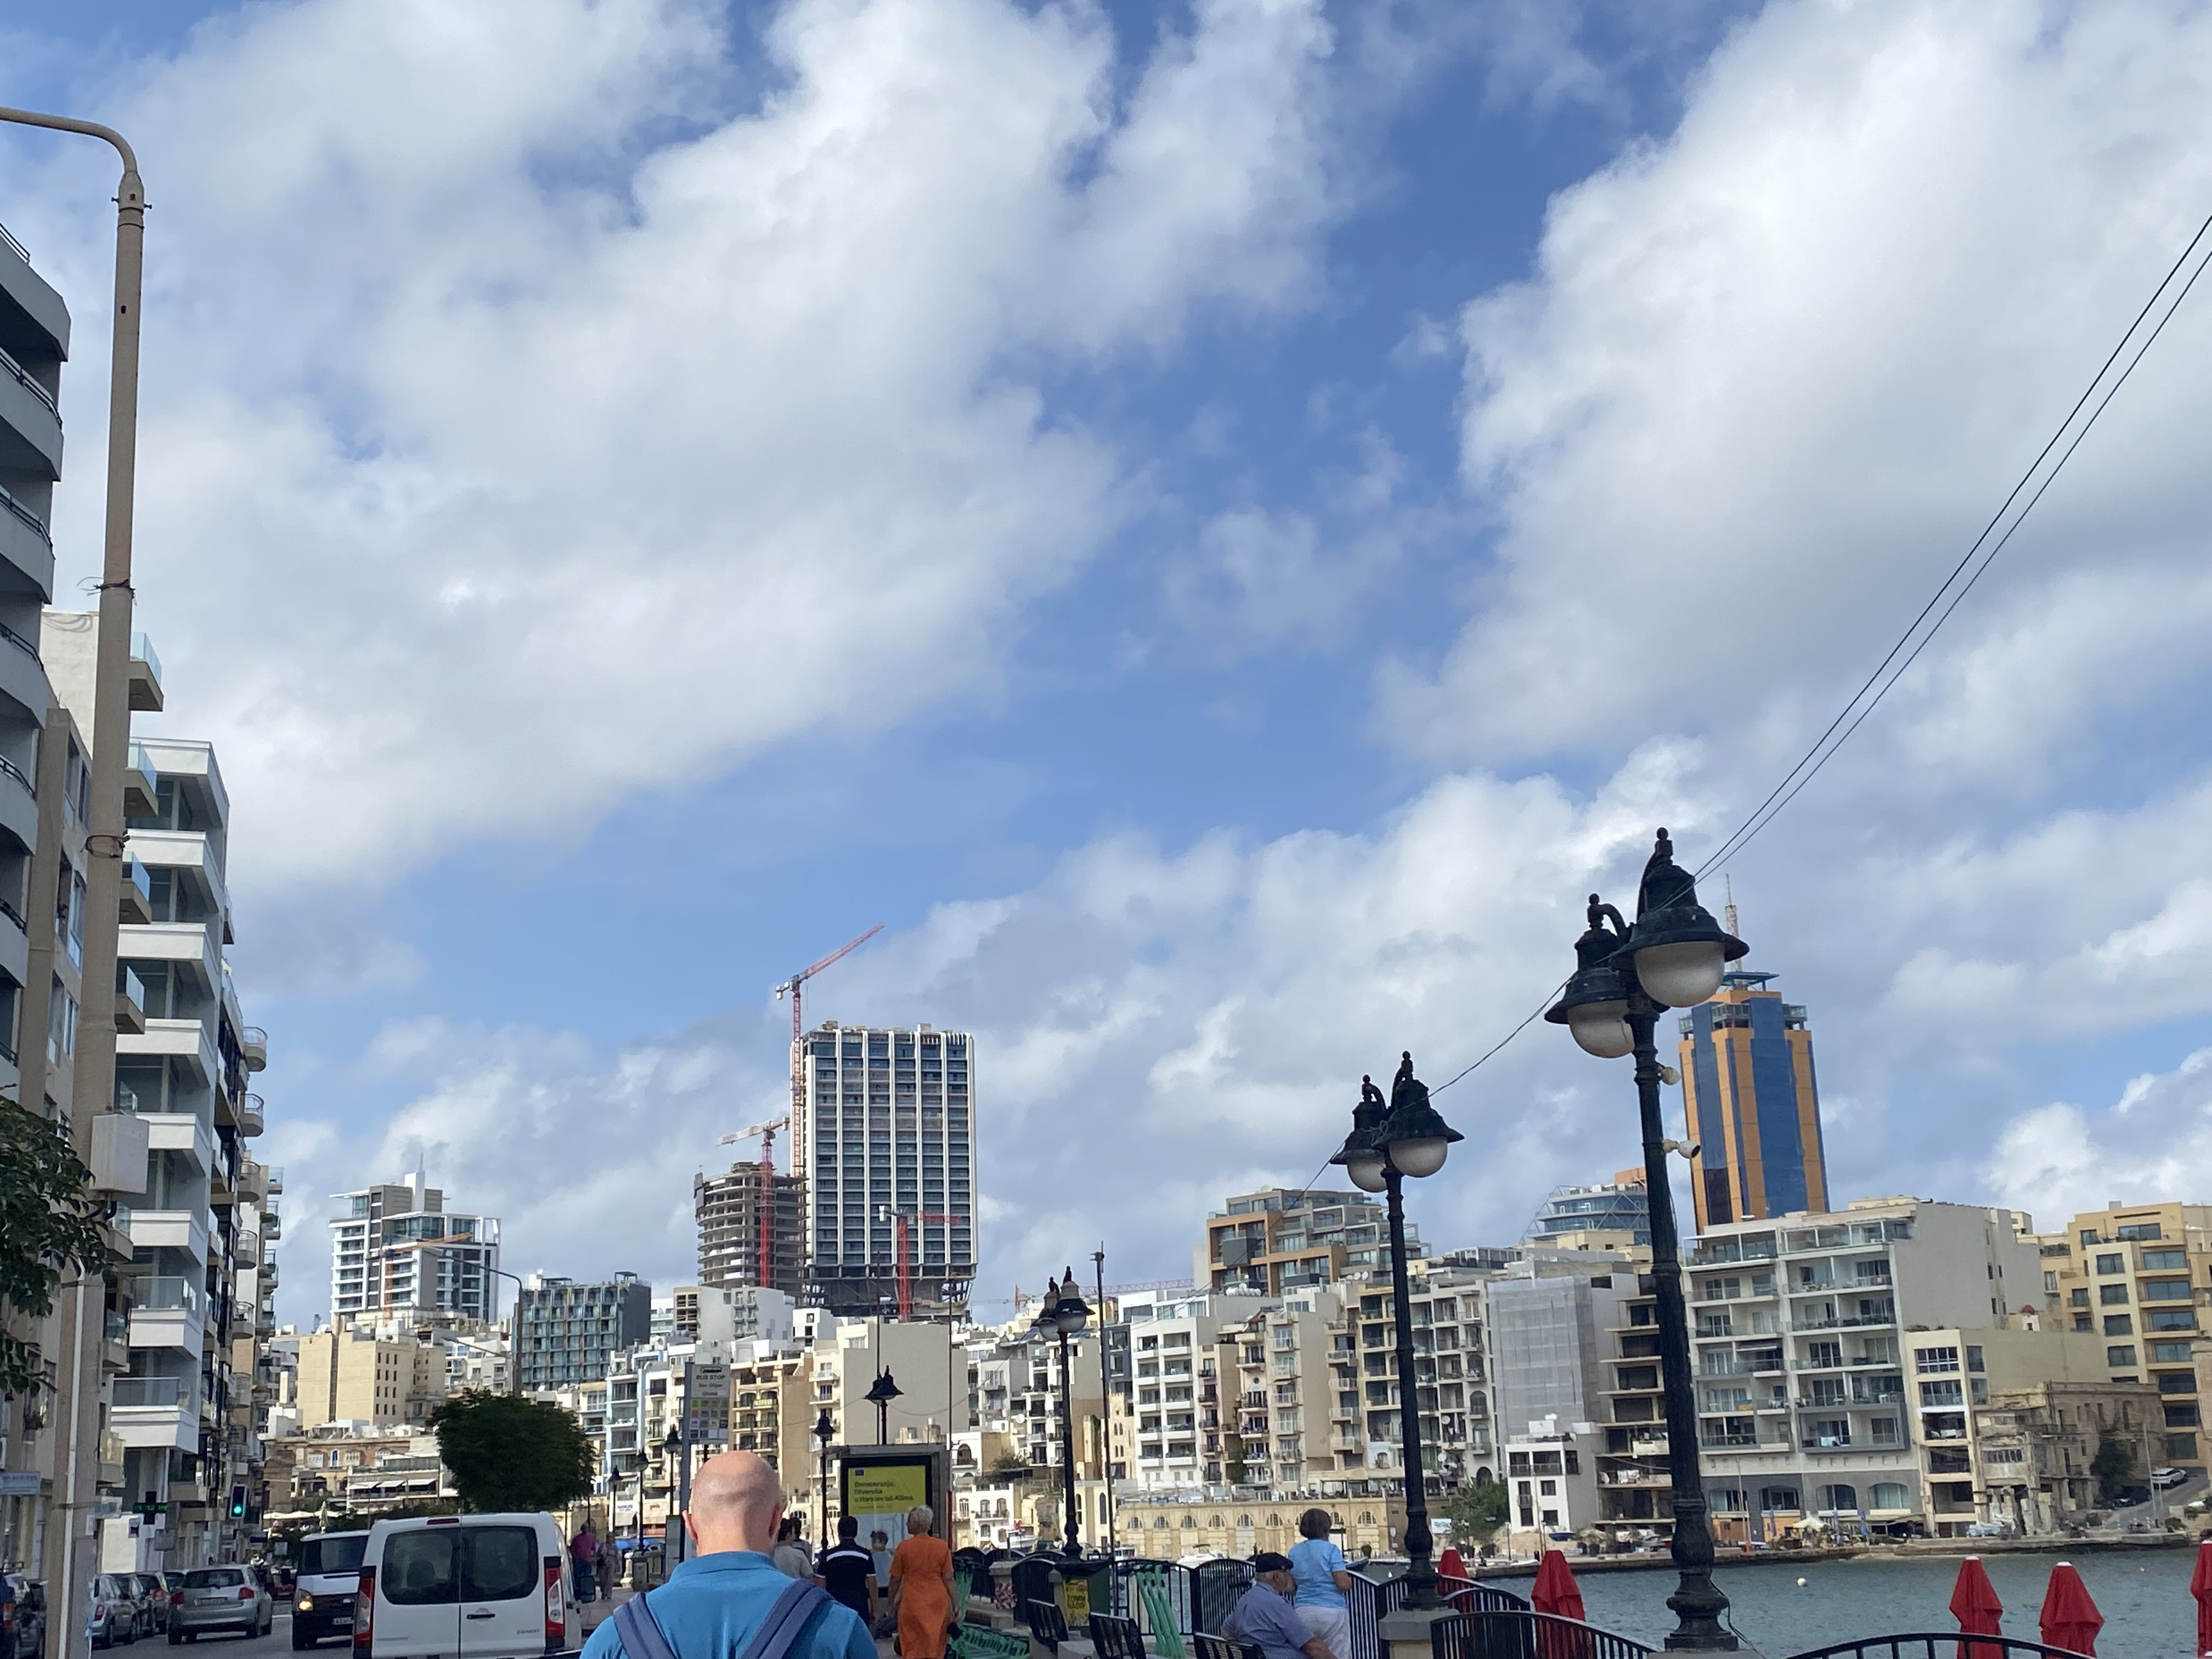crane: (742, 913, 967, 1019)
